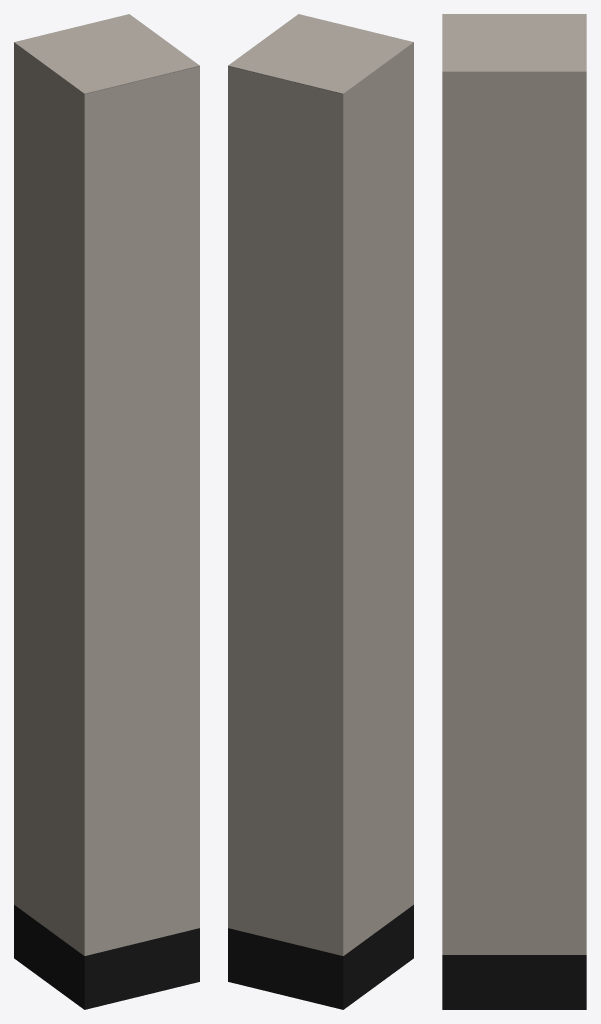
The model's file is Column.FBX.
The picture shows the model from 3 angles, left to right: view 1: azimuth 30°, elevation 25°; view 2: azimuth 150°, elevation 25°; view 3: azimuth 270°, elevation 25°; orthographic projection. The views are drawn at different scales.
Parts seen in each view (by area): view 1: Column; view 2: Column; view 3: Column.
Boxes of the visible parts, <box> form: Column: <box>14,14,199,1009</box>; Column: <box>228,14,413,1009</box>; Column: <box>442,14,586,1009</box>.
Size of the model in its own units: 395 by 3002 by 419.
1 material, 1 textured.
